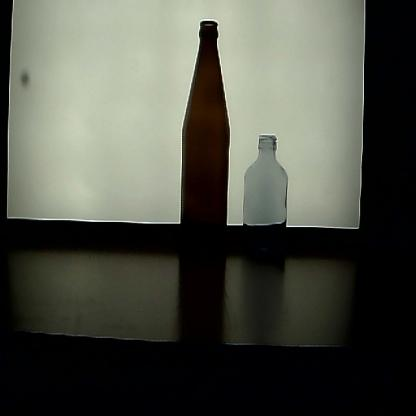Can: (176, 18, 232, 268), (239, 130, 292, 263)
